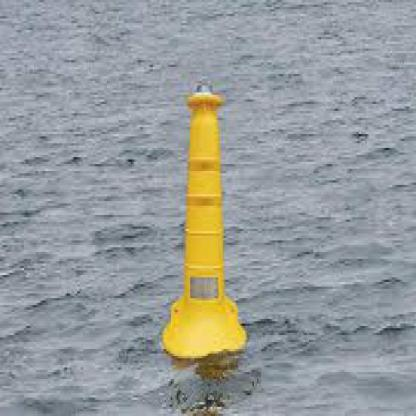buoy: (150, 74, 254, 372)
